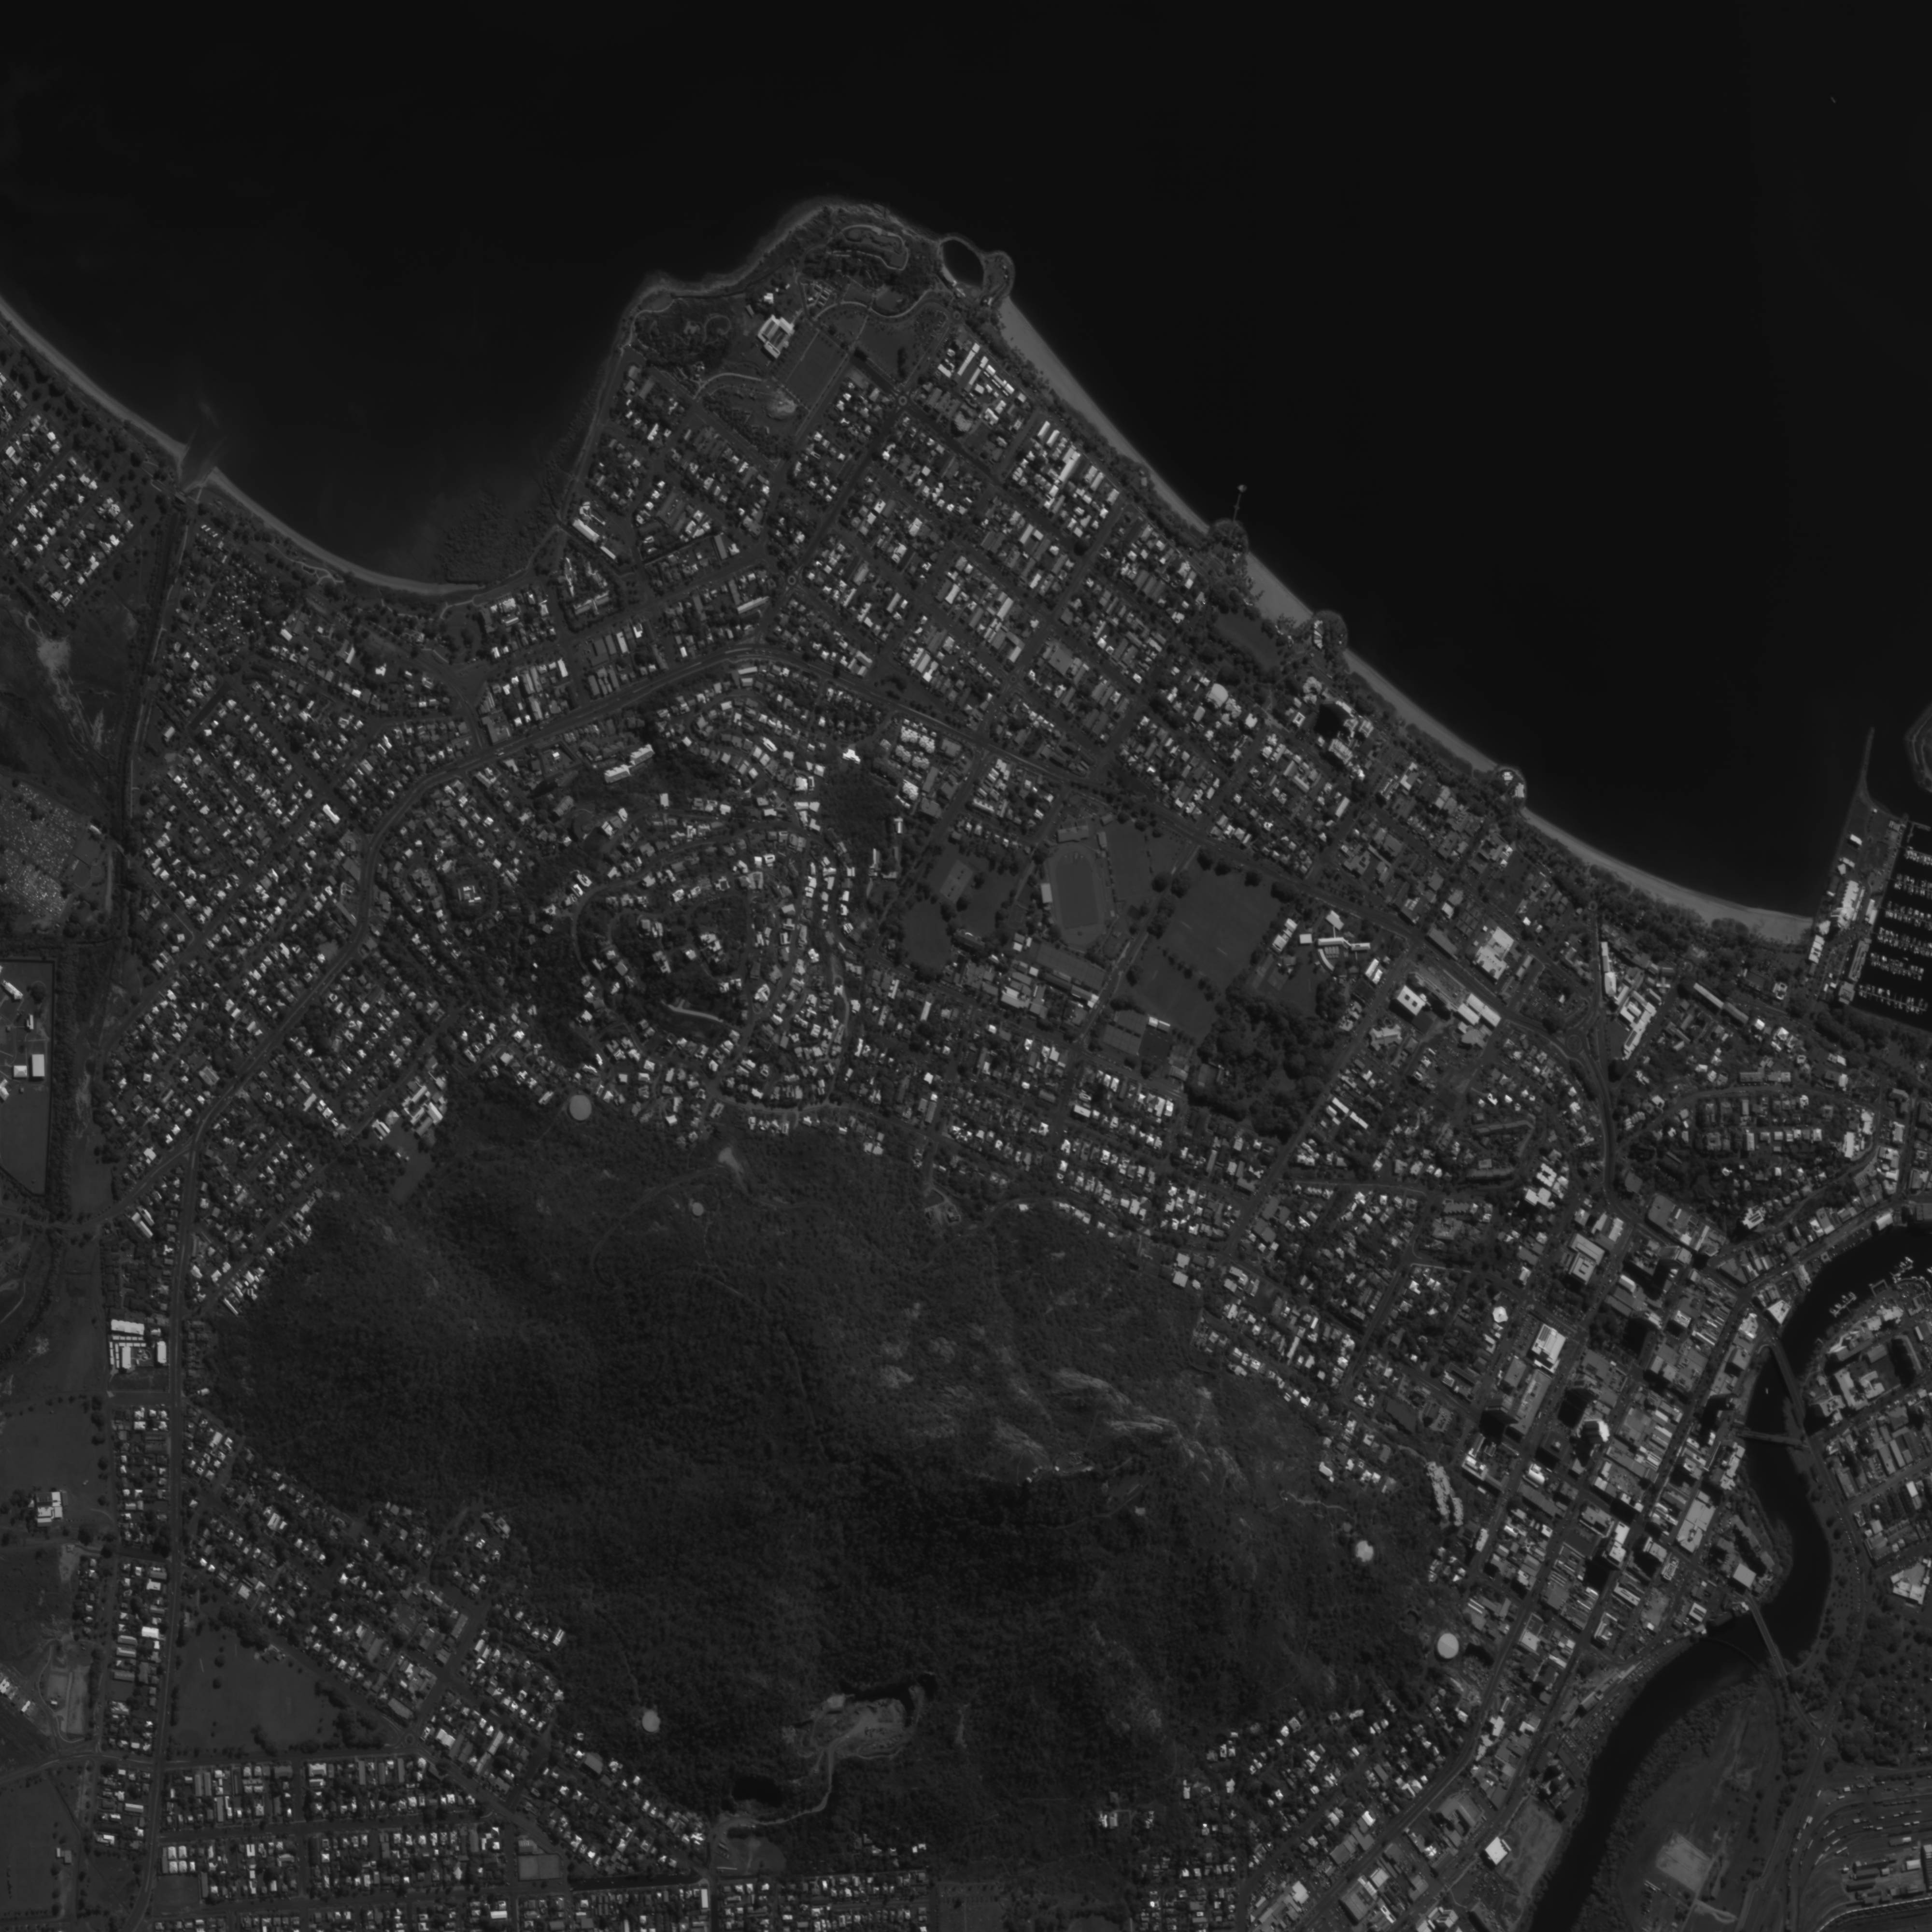bridge: (1748, 1601, 1789, 1677), (1769, 1339, 1803, 1407), (1736, 1424, 1794, 1451), (170, 487, 191, 506)
ground track field: (1042, 835, 1111, 954)
harbor: (1856, 978, 1930, 1023), (1865, 945, 1928, 984), (1874, 924, 1932, 959), (1879, 895, 1932, 932), (1890, 869, 1932, 901), (1824, 1286, 1861, 1322), (1886, 1260, 1925, 1288), (1897, 840, 1932, 869)
roundabout: (1566, 1033, 1585, 1054), (1681, 959, 1697, 975), (1007, 672, 1021, 686), (1587, 899, 1601, 913), (405, 1732, 418, 1748), (786, 575, 800, 587), (897, 395, 909, 407), (952, 310, 964, 322)
storage tank: (568, 1092, 594, 1123), (1435, 1631, 1461, 1661), (640, 1709, 663, 1734), (690, 1201, 708, 1219)
